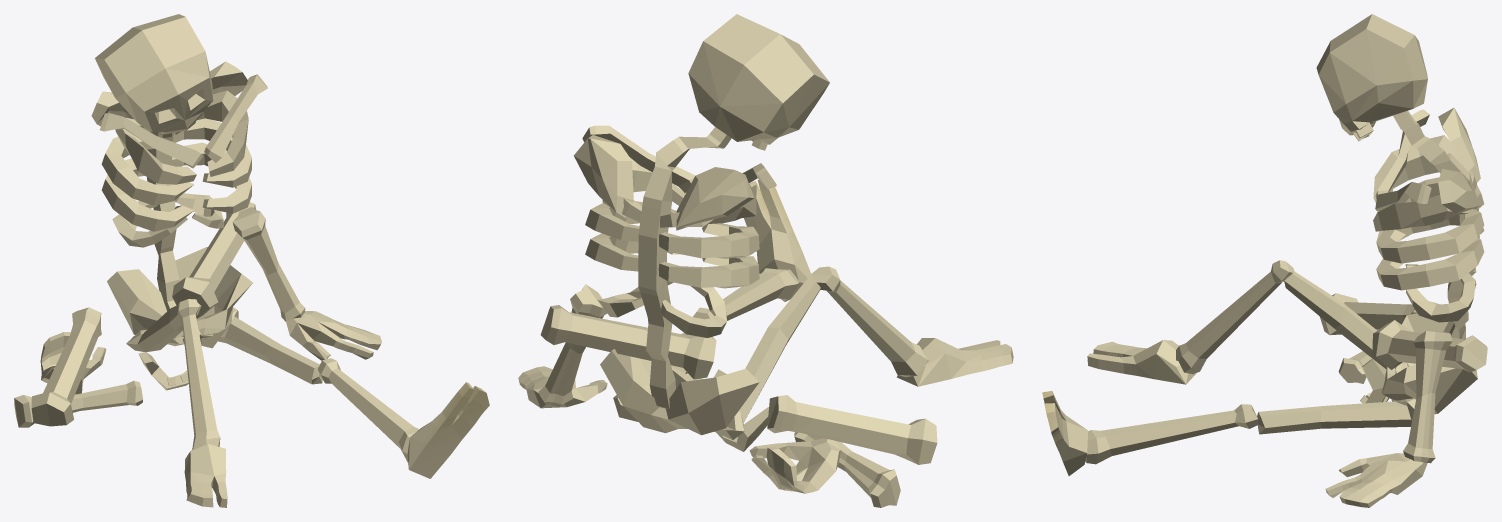
File: Esqueleto_2.FBX
3 renders of one model, left to right at view 1: azimuth 30°, elevation 25°; view 2: azimuth 150°, elevation 25°; view 3: azimuth 270°, elevation 25°, orthographic. The views are drawn at different scales.
Parts seen in each view (by area): view 1: Esqueleto_2; view 2: Esqueleto_2; view 3: Esqueleto_2.
Boxes of the visible parts, x1,y1,x2,y2 form: Esqueleto_2: (14,14,489,507); Esqueleto_2: (518,14,1013,507); Esqueleto_2: (1042,14,1487,507).
Size of the model in its own units: 98.07 by 101 by 103.
1 material, 1 textured.
